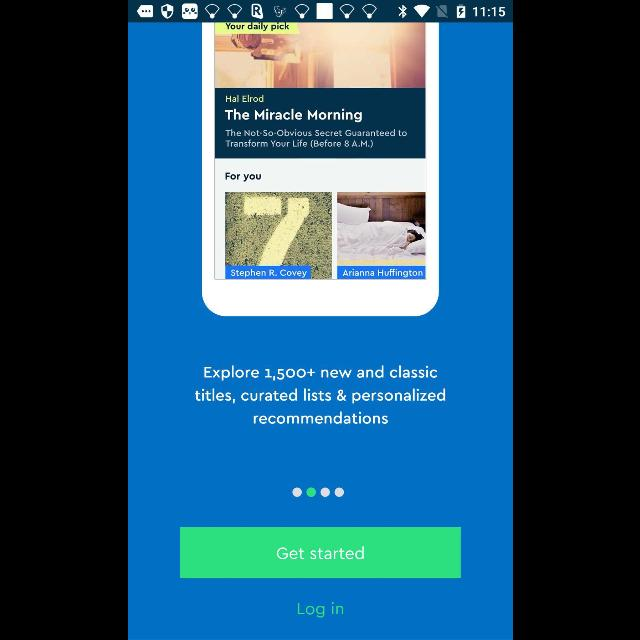image: (202, 23, 438, 316)
pageindicator: (290, 487, 344, 498)
text: (193, 366, 444, 424), (297, 602, 343, 618)
textbutton: (180, 527, 460, 579)
uppertaskbar: (128, 1, 512, 23)
